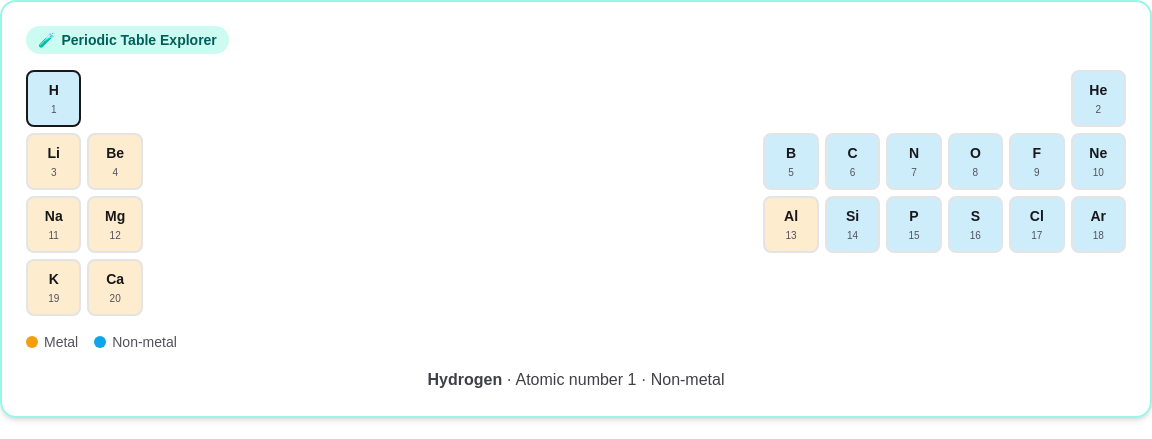
PeriodicTableExplorer › clicking a metal tile updates the displayed info
Click the button "Na 11" at (54, 224), box [26, 196, 81, 253]
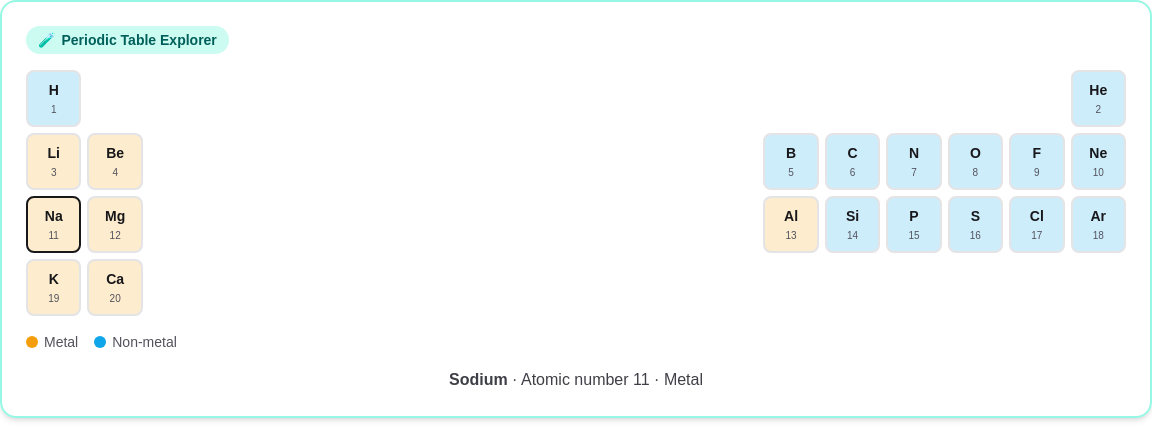
Result: the text with test id "element-name" reads "Sodium" at [449, 371, 508, 388]
Result: the text with test id "element-atomic-number" reads "11" at [633, 371, 650, 388]
Result: the text with test id "element-classification" reads "Metal" at [664, 371, 703, 388]
